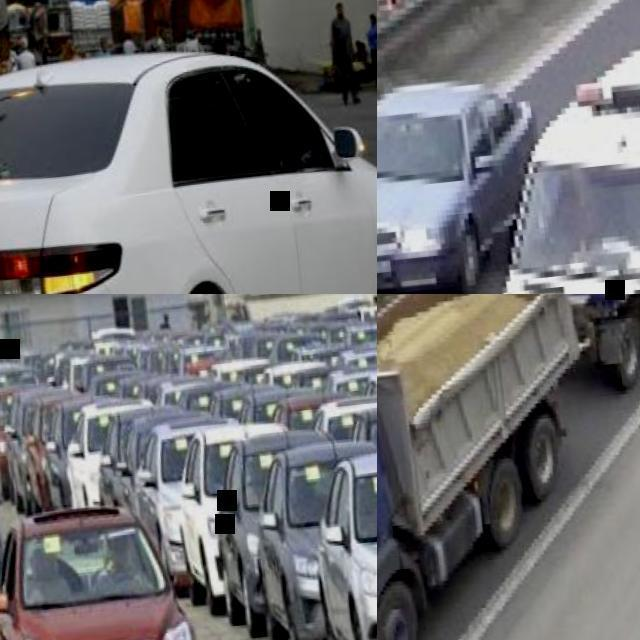car: (2, 47, 374, 352), (377, 80, 534, 288), (0, 504, 198, 639)
